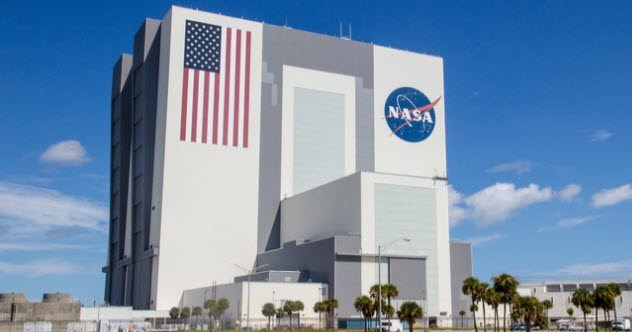NASA: (375, 86, 443, 143)
